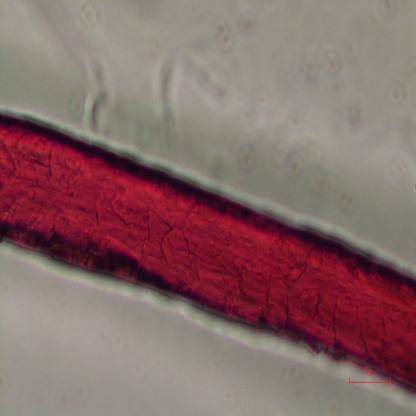Background material: (274, 141, 354, 208), (289, 36, 349, 97), (176, 48, 226, 106), (158, 57, 179, 147), (85, 57, 109, 132), (384, 83, 413, 110), (372, 0, 401, 25), (346, 97, 366, 130), (238, 9, 259, 40), (237, 144, 256, 176), (219, 29, 235, 54)
Hair textile: (0, 106, 416, 397)
